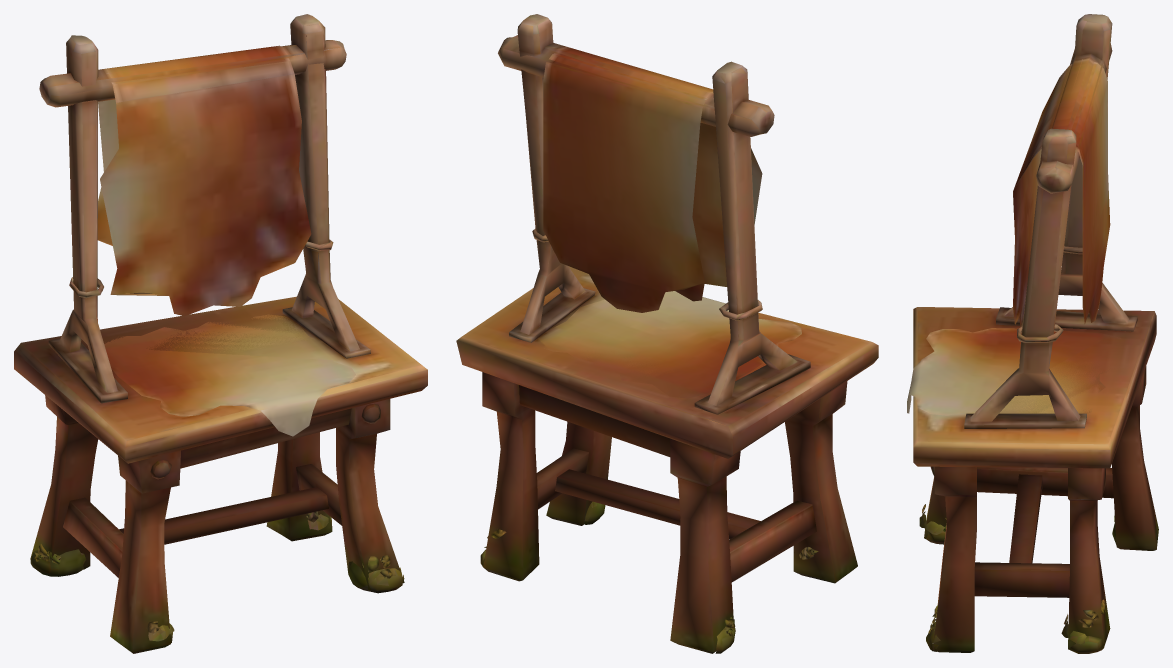
Rendered from wyn_furn_home_tannery.glb.
3 renders of one model, left to right at view 1: azimuth 30°, elevation 25°; view 2: azimuth 150°, elevation 25°; view 3: azimuth 270°, elevation 25°, orthographic. The views are drawn at different scales.
Parts seen in each view (by area): view 1: tripo_node_f7d693bd-88d2-44eb-b4d1-4cbef60c75e6; view 2: tripo_node_f7d693bd-88d2-44eb-b4d1-4cbef60c75e6; view 3: tripo_node_f7d693bd-88d2-44eb-b4d1-4cbef60c75e6.
Part boxes in pixels (x1,y1,x2,y2): tripo_node_f7d693bd-88d2-44eb-b4d1-4cbef60c75e6: (14, 14, 427, 653); tripo_node_f7d693bd-88d2-44eb-b4d1-4cbef60c75e6: (456, 14, 878, 653); tripo_node_f7d693bd-88d2-44eb-b4d1-4cbef60c75e6: (907, 14, 1158, 653).
Bounding box in the file's own units: 0.8308 × 1.4 × 0.6102.
1 material, 1 textured.
